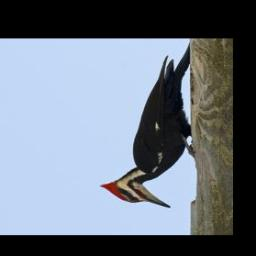Woodpecker: (97, 56, 194, 210)
